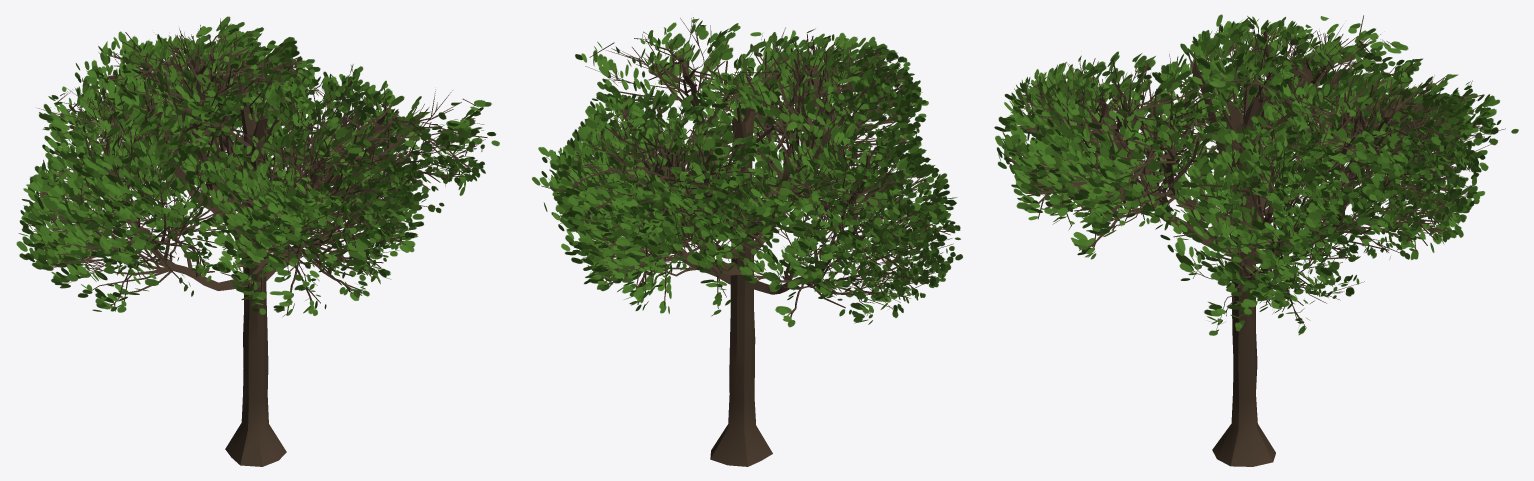
3 renders of one model, left to right at view 1: azimuth 30°, elevation 25°; view 2: azimuth 150°, elevation 25°; view 3: azimuth 270°, elevation 25°, orthographic. The views are drawn at different scales.
Parts seen in each view (by area): view 1: oak 01.001_trunk_Mat.001_0.135; view 2: oak 01.001_trunk_Mat.001_0.135; view 3: oak 01.001_trunk_Mat.001_0.135.
Boxes of the visible parts, left/top/right/bottom form: oak 01.001_trunk_Mat.001_0.135: left=16, top=16, right=499, bottom=466; oak 01.001_trunk_Mat.001_0.135: left=532, top=17, right=962, bottom=466; oak 01.001_trunk_Mat.001_0.135: left=994, top=14, right=1518, bottom=466.
Bounding box in the file's own units: 6.86 × 5.55 × 7.1.
Materials: 2 (1 with a texture image).
